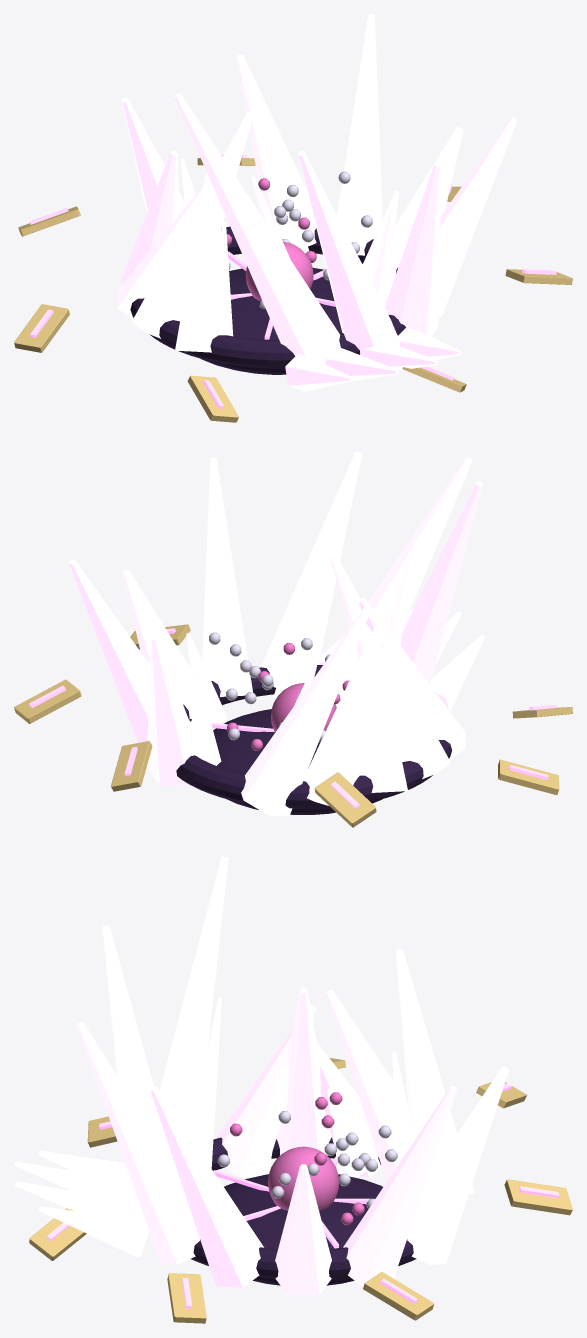
The model's file is SM_Keeper_OverlordEcho.fbx.
3 views of the same model, one above another, from view 1: azimuth 30°, elevation 25°; view 2: azimuth 150°, elevation 25°; view 3: azimuth 270°, elevation 25° (orthographic). The views are drawn at different scales.
Visible parts, largest first — view 1: SM_Keeper_OverlordEcho; view 2: SM_Keeper_OverlordEcho; view 3: SM_Keeper_OverlordEcho.
Boxes of the visible parts, <box> form: SM_Keeper_OverlordEcho: <box>14,14,572,422</box>; SM_Keeper_OverlordEcho: <box>14,451,572,827</box>; SM_Keeper_OverlordEcho: <box>14,856,572,1323</box>.
Bounding box in the file's own units: 6.47 × 3.9 × 5.95.
